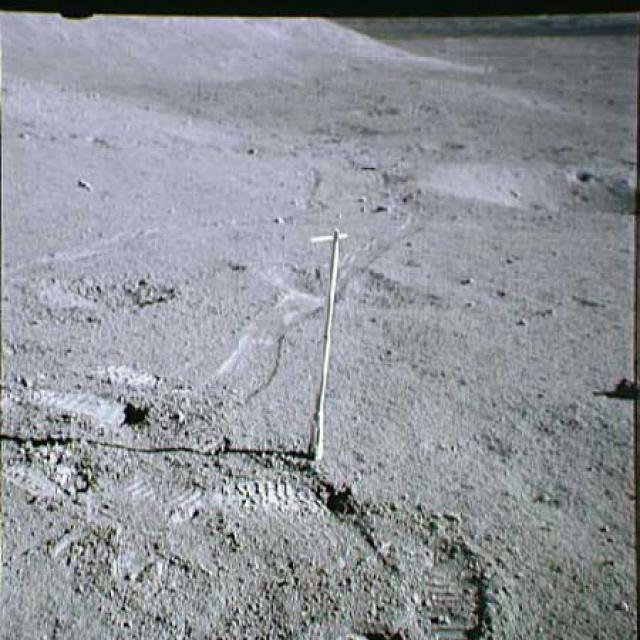artifact: (303, 219, 359, 470)
crater: (412, 159, 638, 226), (274, 262, 418, 314)
